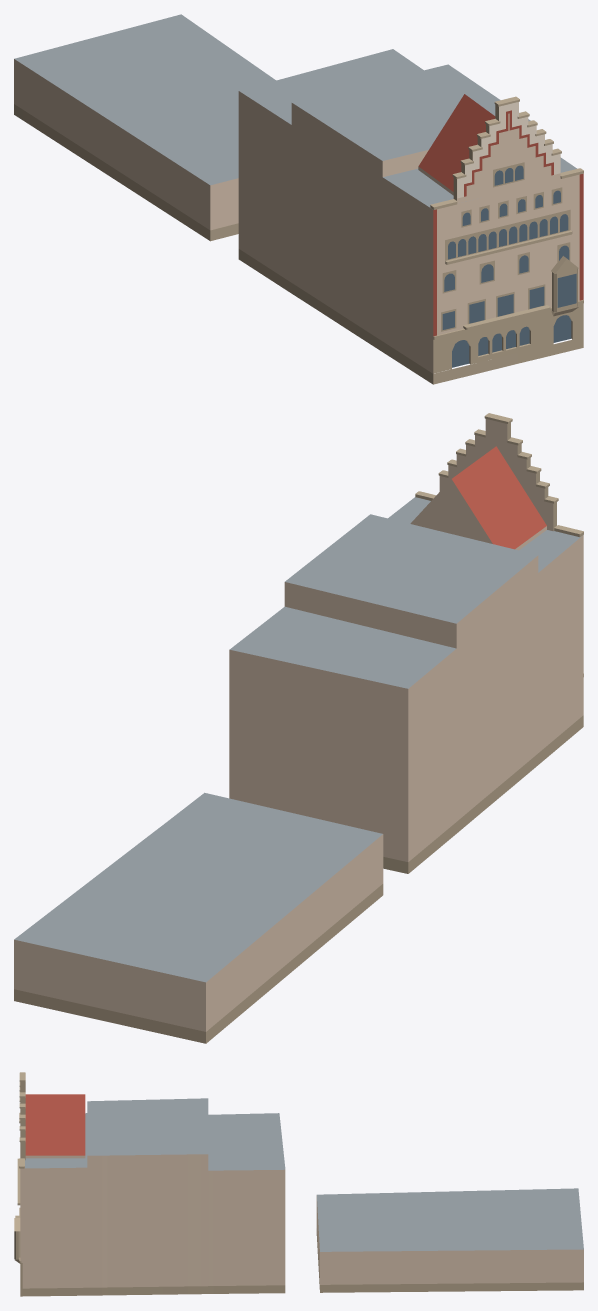
File: barcelona-casa-amatller.glb
The picture shows the model from 3 angles, top to bottom: view 1: azimuth 30°, elevation 25°; view 2: azimuth 150°, elevation 25°; view 3: azimuth 270°, elevation 25°; orthographic projection. The views are drawn at different scales.
Visible parts, largest first — view 1: Casa Amatller; view 2: Casa Amatller; view 3: Casa Amatller.
Part boxes in pixels (x1,y1,x2,y2): Casa Amatller: (14, 14, 583, 384); Casa Amatller: (14, 413, 583, 1043); Casa Amatller: (14, 1072, 583, 1296).
Size of the model in its own units: 21.85 by 29.32 by 78.29.
